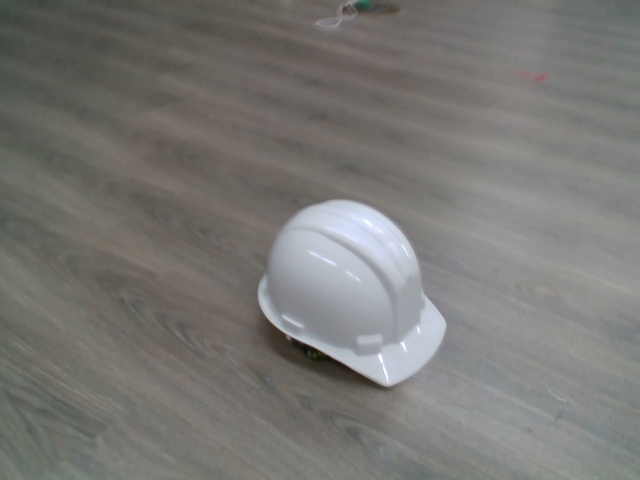helmet: (255, 195, 452, 392)
